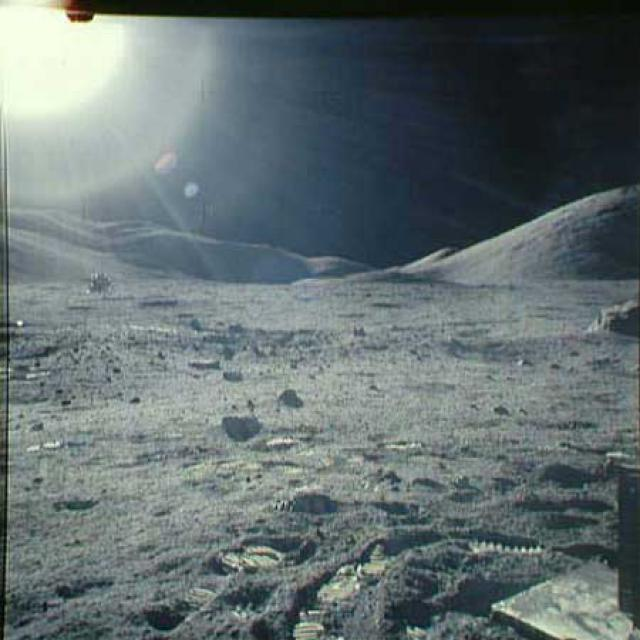artifact: (81, 265, 120, 295)
rock: (580, 293, 639, 341), (220, 412, 262, 436), (279, 378, 303, 410), (186, 354, 222, 371), (223, 369, 244, 382)
